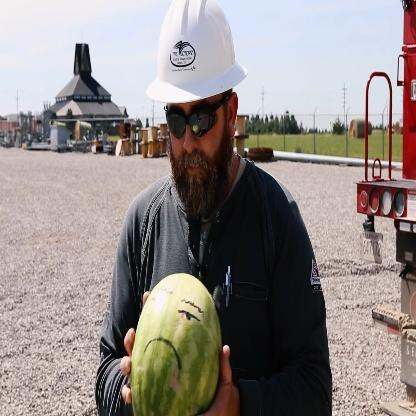helmet: (140, 1, 256, 210)
